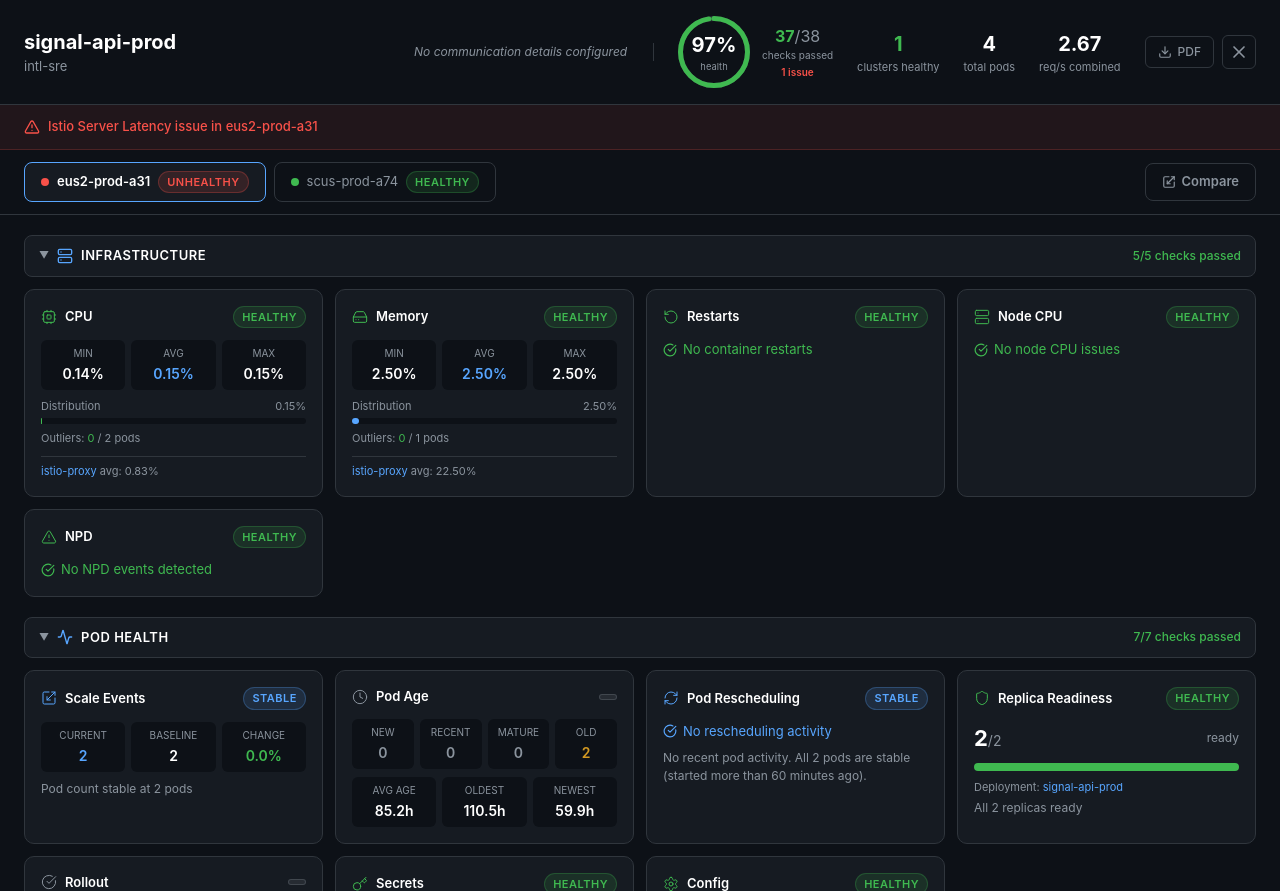
Test case: HealthReportModal › compare view › renders DEPLOYMENT section in compare table
Click the button "Compare". click: click(1200, 182)
box: [1144,163,1256,200]
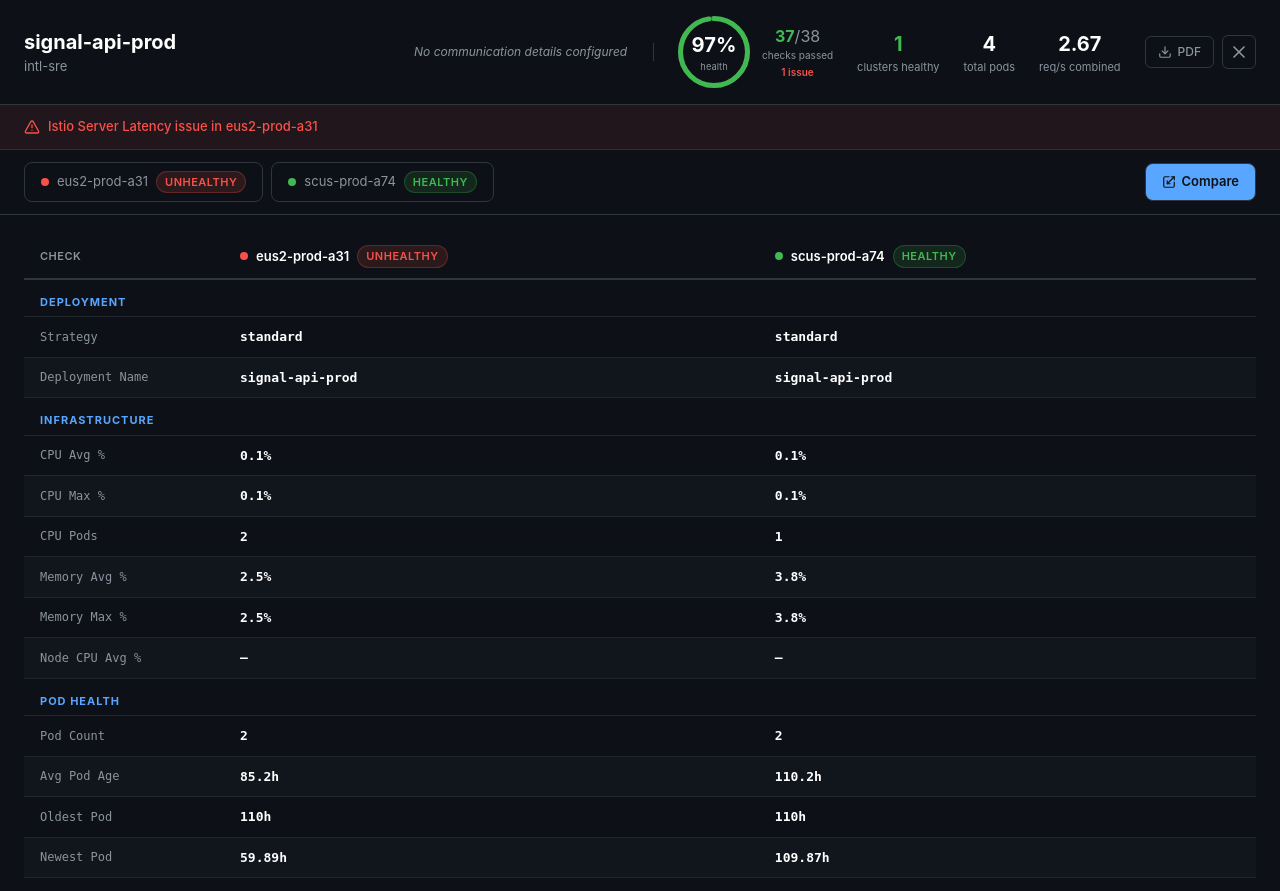
Result: the text "DEPLOYMENT" is shown at [24,278,1256,316]
